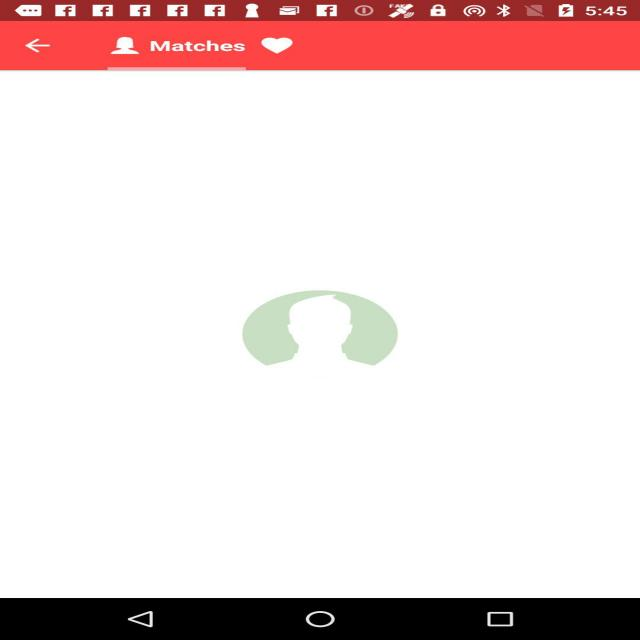button: (10, 22, 80, 75)
icon: (208, 257, 487, 404)
text: (95, 19, 331, 71)
